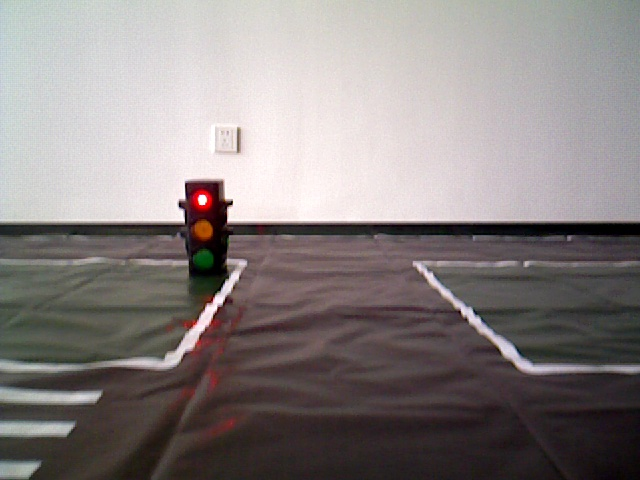red: (188, 180, 223, 279)
